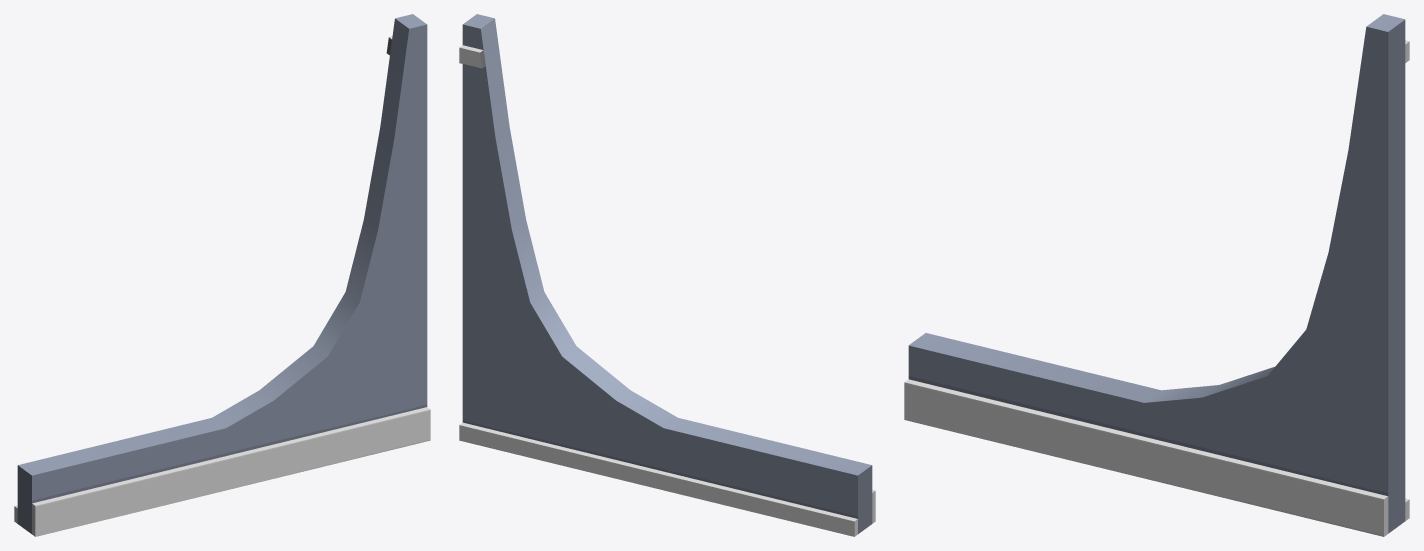
Rendered from office_pack_demoRoom_wall_B_visible.fbx.
3 views of the same model, side by side, from view 1: azimuth 30°, elevation 25°; view 2: azimuth 150°, elevation 25°; view 3: azimuth 330°, elevation 25° (orthographic). The views are drawn at different scales.
Parts seen in each view (by area): view 1: office_pack_demoRoom_wall_B_visible; view 2: office_pack_demoRoom_wall_B_visible; view 3: office_pack_demoRoom_wall_B_visible.
Part boxes in pixels (x1,y1,x2,y2): office_pack_demoRoom_wall_B_visible: (14,14,430,536); office_pack_demoRoom_wall_B_visible: (459,14,875,536); office_pack_demoRoom_wall_B_visible: (904,14,1409,536).
Bounding box in the file's own units: 200 × 200 × 18.5.
